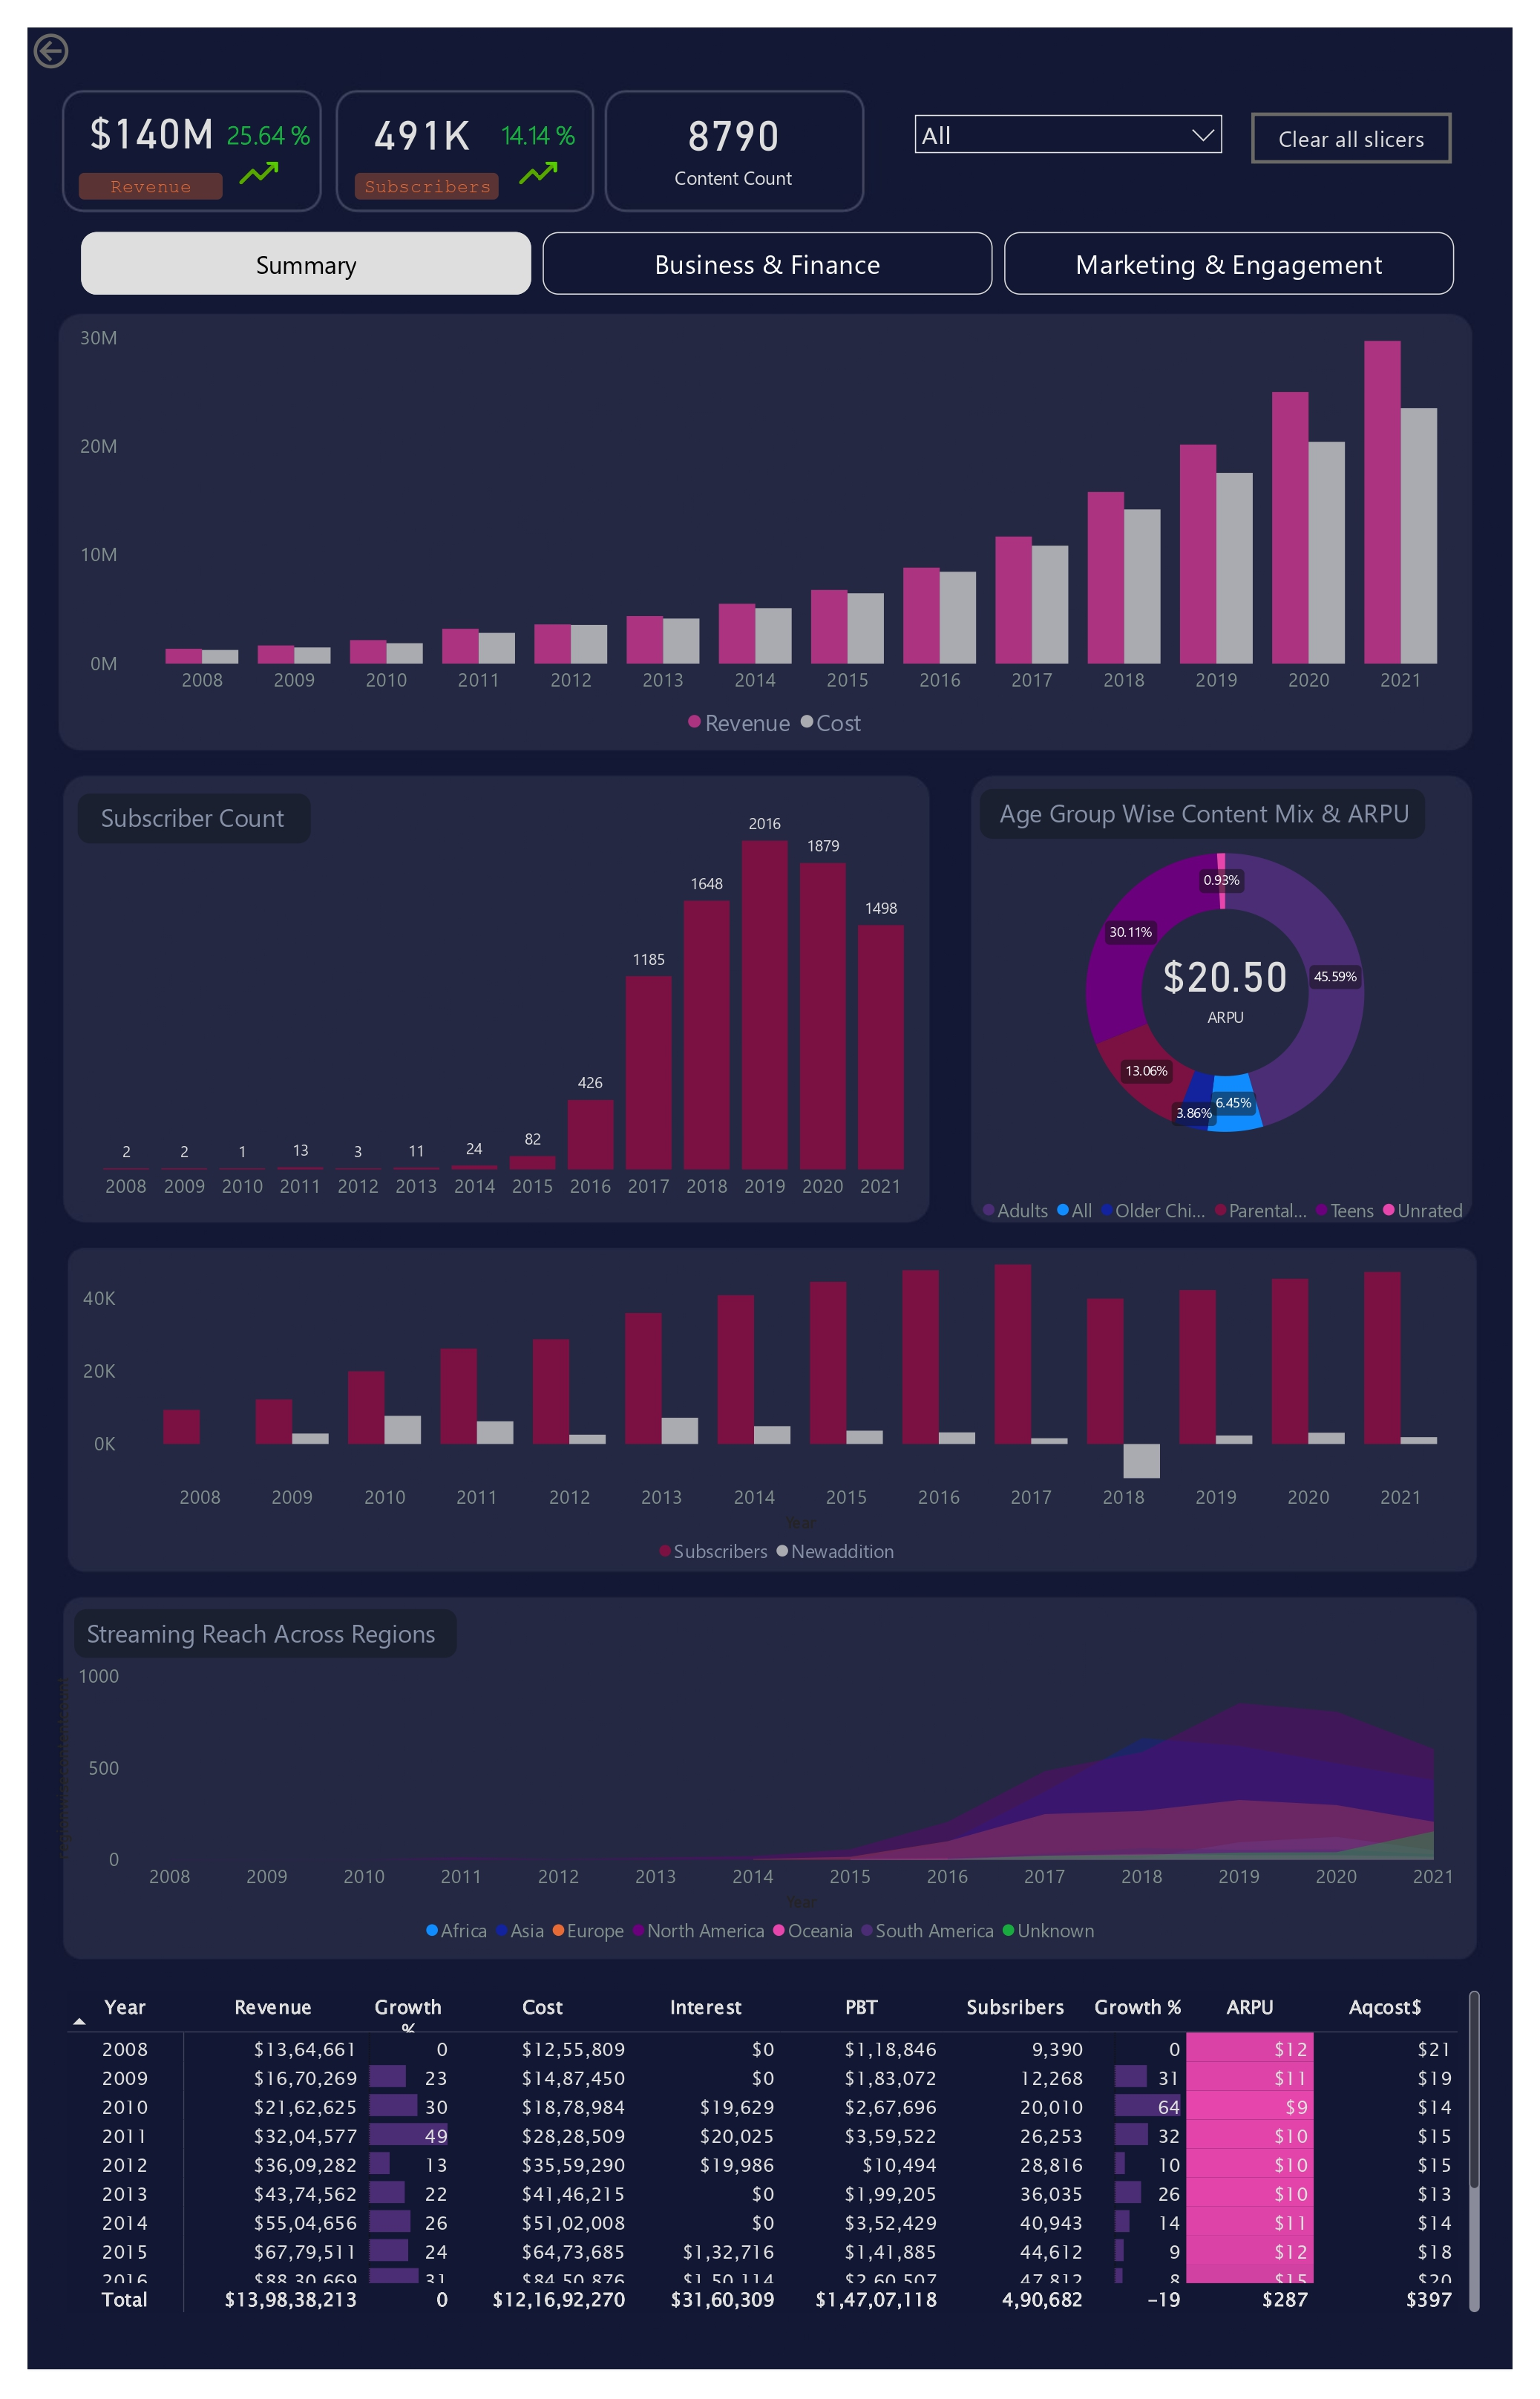

The page's visual inventory and layout, read from the dashboard file:
{"tool":"powerbi","page":{"name":"Summary","canvas":[1280,2020],"ordinal":0},"visuals":[{"type":"clusteredColumnChart","fields":{"Y":["Sum(netflix_financials.Revenue)","Sum(netflix_financials.total_cost)"],"Category":["netflix_financials.Year"]},"box":[40,250,1212.9,370],"z":2000},{"type":"shape","box":[44.2,125,124.2,22.5],"z":3000},{"type":"textbox","box":[60,122.7,92.7,37.3],"z":4000},{"type":"shape","box":[281.8,125.5,124.2,22.5],"z":5000},{"type":"clusteredColumnChart","fields":{"Y":["netflix_showdata.contentcount"],"Category":["netflix_financials.Year"]},"box":[40,660,741.4,360],"z":6000},{"type":"textbox","box":[285,122.5,120,31.2],"z":7000},{"type":"donutChart","fields":{"Category":["netflix_showdata.age_group"],"Y":["netflix_showdata.categorycount"]},"box":[815,656.2,435,382.5],"z":8000},{"type":"clusteredColumnChart","fields":{"Y":["Sum(netflix_financials.total_subsribers)","Sum(netflix_financials.newsubcount)"],"Category":["netflix_financials.Year"]},"box":[42.9,1050,1210,282.9],"z":9000},{"type":"card","fields":{"Values":["Sum(netflix_financials.Revenue)"]},"box":[40,65.7,132.9,44.3],"z":10000},{"type":"card","fields":{"Values":["Sum(netflix_financials.total_subsribers)"]},"box":[274.3,70,131.4,40],"z":11000},{"type":"card","fields":{"Values":["netflix_showdata.contentcount"]},"box":[542.9,41.4,131.4,118.6],"z":12000},{"type":"areaChart","fields":{"Y":["netflix_showdata.regionwisecontentcount"],"Series":["netflix_showdata.region"],"Category":["netflix_financials.Year"]},"box":[17.1,1404.3,1234.3,255.7],"z":13000},{"type":"slicer","fields":{"Values":["YearTable.Year"]},"box":[755,65,285,60],"z":14000},{"type":"pivotTable","fields":{"Rows":["YearTable.Year"],"Values":["Sum(netflix_financials.Revenue)","Min(netflix_financials.revenuegrowth%)","Sum(netflix_financials.total_cost)","Sum(netflix_financials.Interest)","Sum(netflix_financials.PBT)","Sum(netflix_financials.total_subsribers)","Min(netflix_financials.subsriber growth %)","Sum(netflix_financials.ARPU $)","Sum(netflix_financials.costofaquisition $)"]},"box":[28.6,1687.1,1228.6,287.1],"z":15000},{"type":"actionButton","box":[1055,73.3,173.3,43.3],"z":16000},{"type":"card","fields":{"Values":["Avg(netflix_financials.ARPU $)"]},"box":[942.5,768.8,180,110],"z":17000},{"type":"pageNavigator","box":[46,176,1184,54],"z":18000},{"type":"card","fields":{"Values":["Avg(netflix_financials.subsriber growth %)"]},"box":[385.7,40,108.6,107.1],"z":19000},{"type":"actionButton","box":[0,0,100,40],"z":20000},{"type":"card","fields":{"Values":["Avg(netflix_financials.revenuegrowth%)"]},"box":[151.4,50,112.9,87.1],"z":21000},{"type":"image","box":[151.4,100,94.3,50],"z":22000},{"type":"image","box":[392.9,100,94.3,50],"z":23000},{"type":"shape","box":[42.5,660,201.2,42.5],"z":24000},{"type":"textbox","box":[57.5,660,300,60],"z":25000},{"type":"shape","box":[821.2,656.2,383.8,42.5],"z":26000},{"type":"textbox","box":[833,656,444,60],"z":27000},{"type":"shape","box":[40,1362.5,330,42.5],"z":28000},{"type":"textbox","box":[46.2,1362.5,443.8,60],"z":29000}]}

Visuals, with their boxes in screenshot pixels (x1, y1, x2, y2):
clusteredColumnChart - Sum(netflix_financials.Revenue) x Sum(netflix_financials.total_cost): [74, 318, 1481, 747]
shape: [79, 173, 223, 199]
textbox: [97, 170, 205, 214]
shape: [355, 174, 499, 200]
clusteredColumnChart - netflix_showdata.contentcount x netflix_financials.Year: [74, 793, 934, 1211]
textbox: [358, 170, 497, 206]
donutChart - netflix_showdata.age_group x netflix_showdata.categorycount: [973, 789, 1478, 1233]
clusteredColumnChart - Sum(netflix_financials.total_subsribers) x Sum(netflix_financials.newsubcount): [78, 1246, 1481, 1574]
card - Sum(netflix_financials.Revenue): [74, 104, 229, 155]
card - Sum(netflix_financials.total_subsribers): [346, 109, 498, 155]
card - netflix_showdata.contentcount: [658, 76, 810, 214]
areaChart - netflix_showdata.regionwisecontentcount x netflix_showdata.region: [47, 1657, 1479, 1954]
slicer - YearTable.Year: [903, 103, 1233, 173]
pivotTable - YearTable.Year x Sum(netflix_financials.Revenue): [61, 1985, 1486, 2318]
actionButton: [1251, 113, 1452, 163]
card - Avg(netflix_financials.ARPU $): [1121, 920, 1329, 1047]
pageNavigator: [81, 232, 1454, 295]
card - Avg(netflix_financials.subsriber growth %): [475, 74, 601, 198]
actionButton: [28, 28, 144, 74]
card - Avg(netflix_financials.revenuegrowth%): [203, 86, 334, 187]
image: [203, 144, 312, 202]
image: [483, 144, 593, 202]
shape: [77, 793, 310, 842]
textbox: [94, 793, 442, 863]
shape: [980, 789, 1425, 838]
textbox: [994, 789, 1509, 859]
shape: [74, 1608, 457, 1657]
textbox: [82, 1608, 596, 1678]
